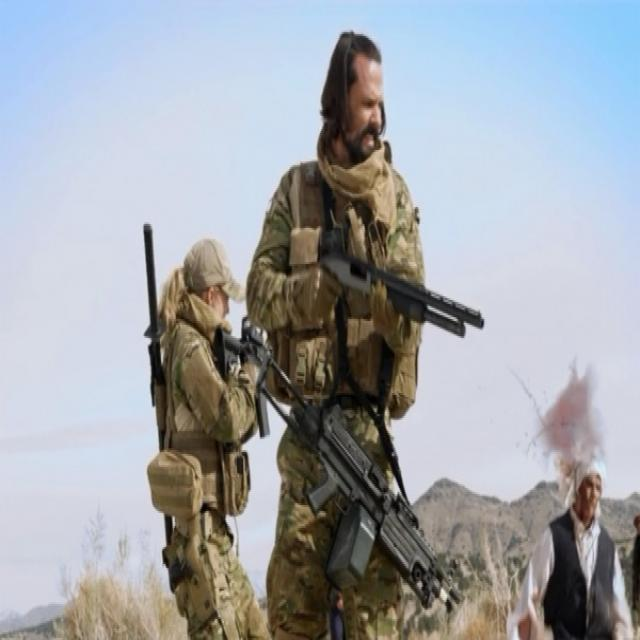rifle: (258, 356, 469, 614), (320, 250, 490, 347)
